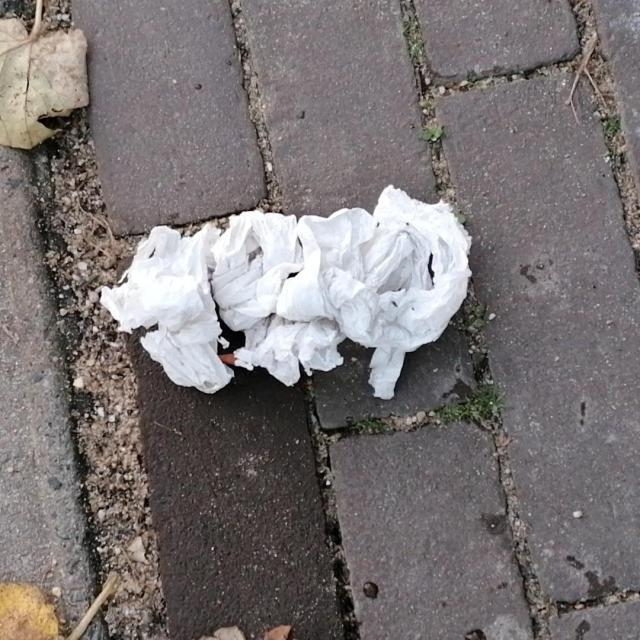Paper: (100, 181, 473, 401)
